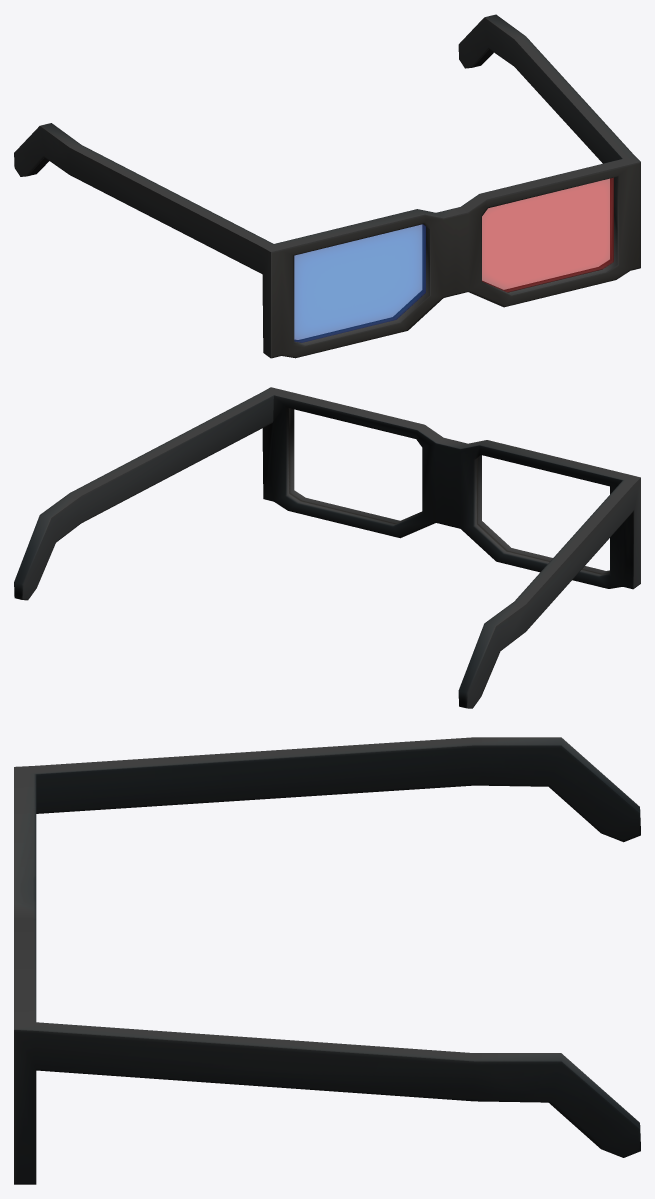
3 views of the same model, one above another, from view 1: azimuth 30°, elevation 25°; view 2: azimuth 150°, elevation 25°; view 3: azimuth 270°, elevation 25° (orthographic). The views are drawn at different scales.
Parts seen in each view (by area): view 1: Wolf3D_Glasses; view 2: Wolf3D_Glasses; view 3: Wolf3D_Glasses.
Boxes of the visible parts, <box> form: Wolf3D_Glasses: <box>14,14,640,358</box>; Wolf3D_Glasses: <box>14,387,640,708</box>; Wolf3D_Glasses: <box>14,737,640,1184</box>.
Size of the model in its own units: 0.1612 by 0.0378 by 0.1318.
Materials: 1 (1 with a texture image).
